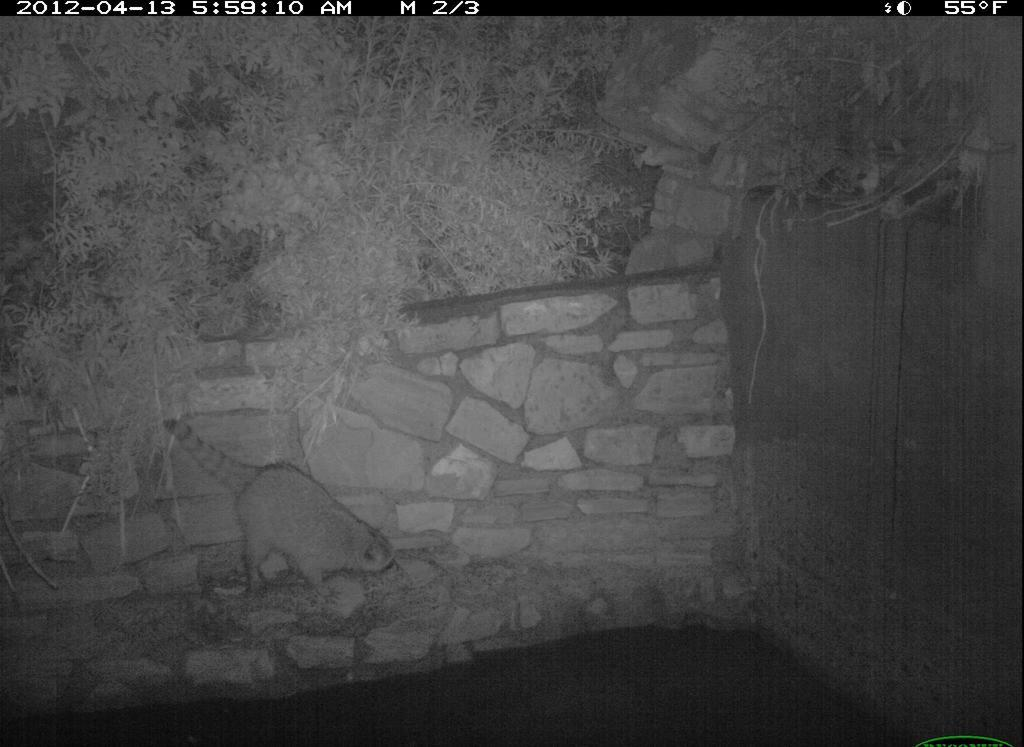raccoon: (152, 408, 424, 606)
